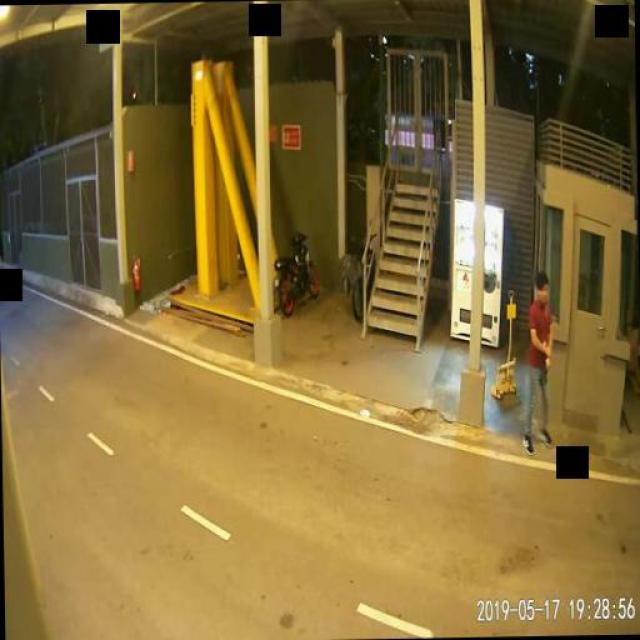gun: (541, 357, 550, 382)
